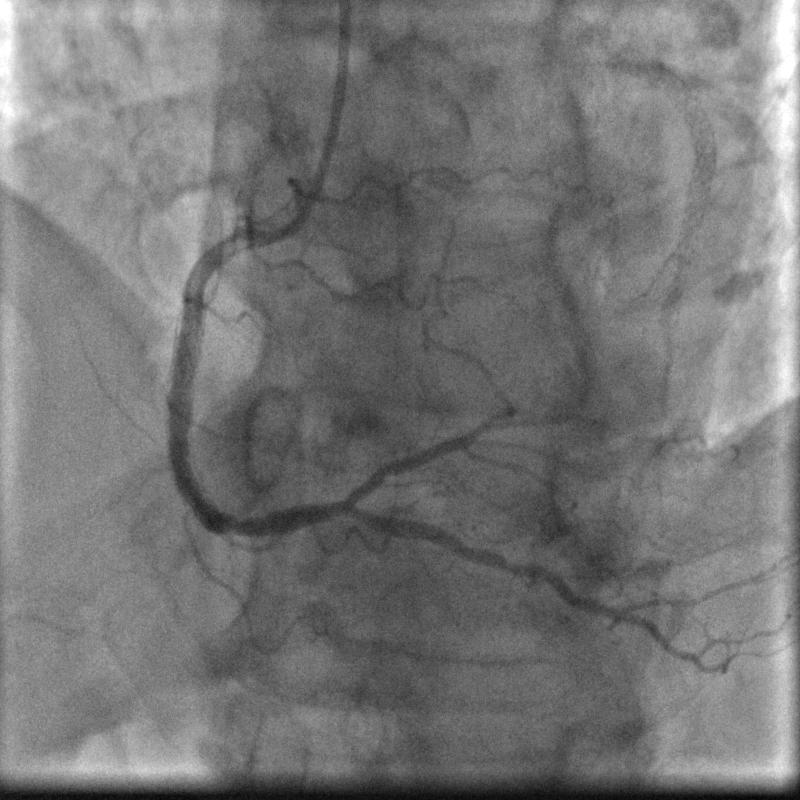Stenosis: (203, 222, 259, 267)
